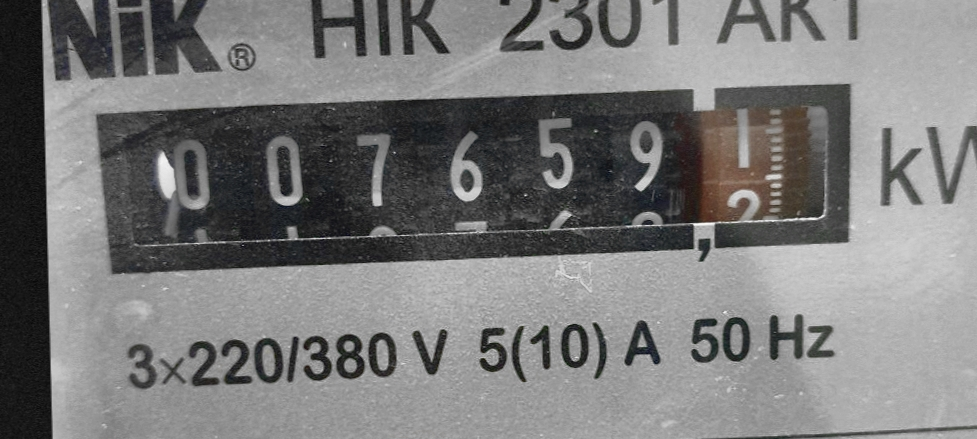0: (251, 127, 309, 215), (163, 131, 215, 222)
1: (724, 102, 760, 178)
5: (529, 113, 577, 196)
6: (436, 124, 489, 208)
7: (349, 128, 393, 214)
9: (622, 114, 666, 203)
screen: (74, 64, 873, 297)
